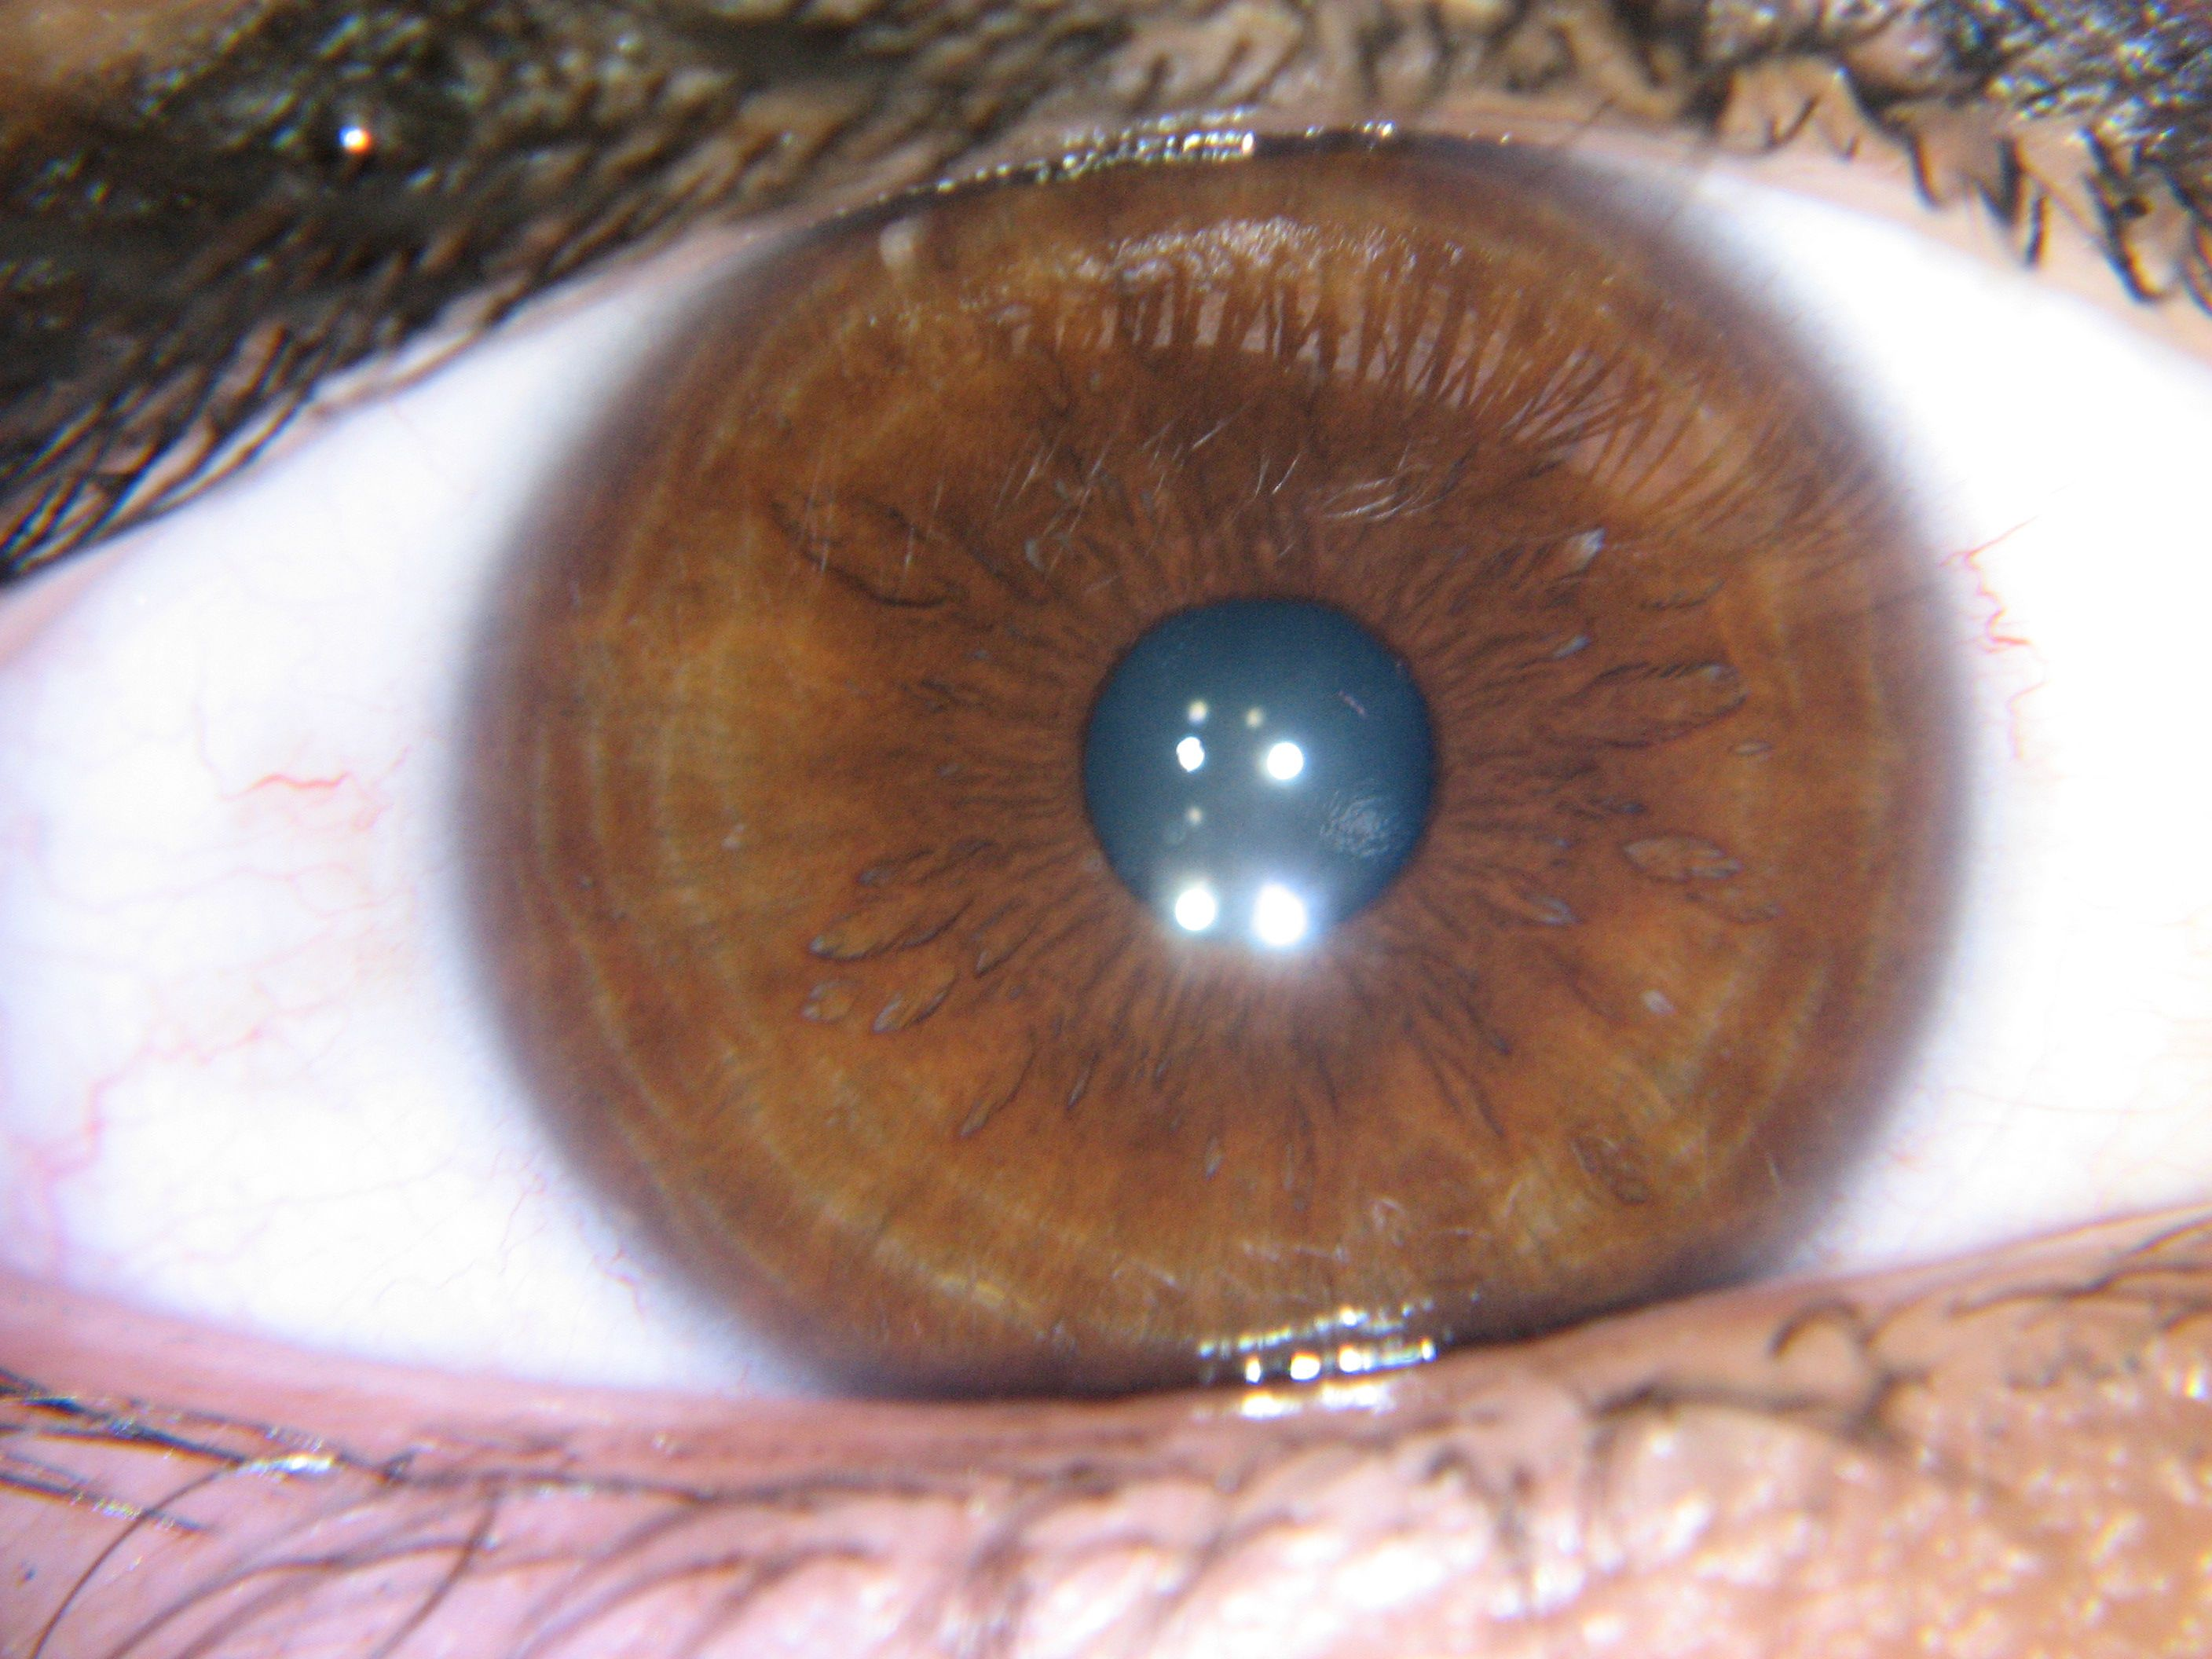iris: (440, 115, 1976, 1414)
pupil: (1080, 590, 1445, 943)
